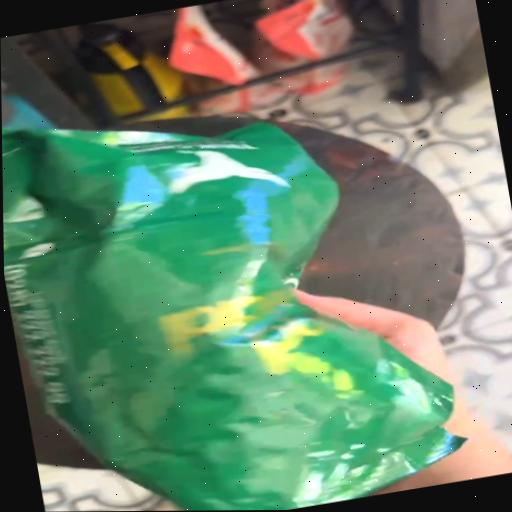cafe_xay: (2, 122, 464, 511)
